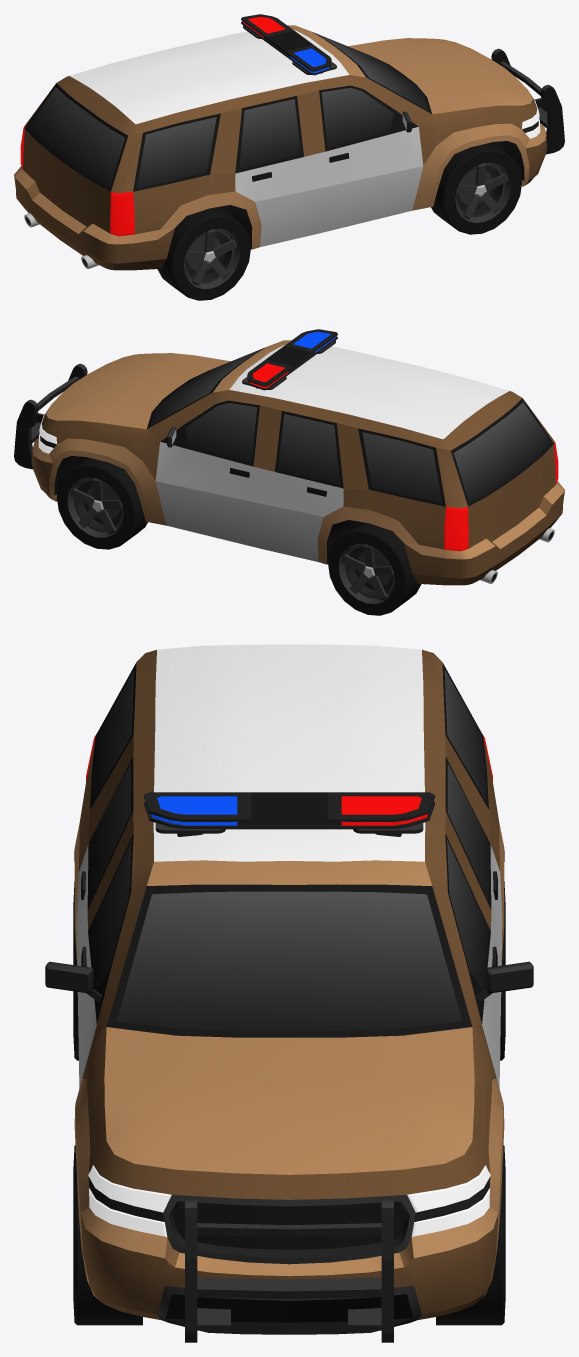
The model's file is Emergency_027.glb.
The picture shows the model from 3 angles, top to bottom: view 1: azimuth 30°, elevation 25°; view 2: azimuth 150°, elevation 25°; view 3: azimuth 270°, elevation 25°; orthographic projection. The views are drawn at different scales.
Parts seen in each view (by area): view 1: Emergency_027, wheel_3_Emergency_027_Wheel_2R, wheel_1_Emergency_027_Wheel_1R; view 2: Emergency_027, wheel_2_Emergency_027_Wheel_2L, wheel_0_Emergency_027_Wheel_1L; view 3: Emergency_027, wheel_0_Emergency_027_Wheel_1L, wheel_1_Emergency_027_Wheel_1R.
Boxes of the visible parts, x1,y1,x2,y2 form: Emergency_027: [14, 14, 564, 270]; wheel_3_Emergency_027_Wheel_2R: [157, 207, 250, 300]; wheel_1_Emergency_027_Wheel_1R: [431, 142, 521, 234]; Emergency_027: [14, 329, 564, 585]; wheel_2_Emergency_027_Wheel_2L: [328, 522, 421, 615]; wheel_0_Emergency_027_Wheel_1L: [57, 457, 147, 549]; Emergency_027: [45, 644, 533, 1342]; wheel_0_Emergency_027_Wheel_1L: [436, 1145, 505, 1325]; wheel_1_Emergency_027_Wheel_1R: [73, 1145, 142, 1325].
Bounding box in the file's own units: 4.77 × 1.77 × 2.08.
3 materials, 3 textured.
